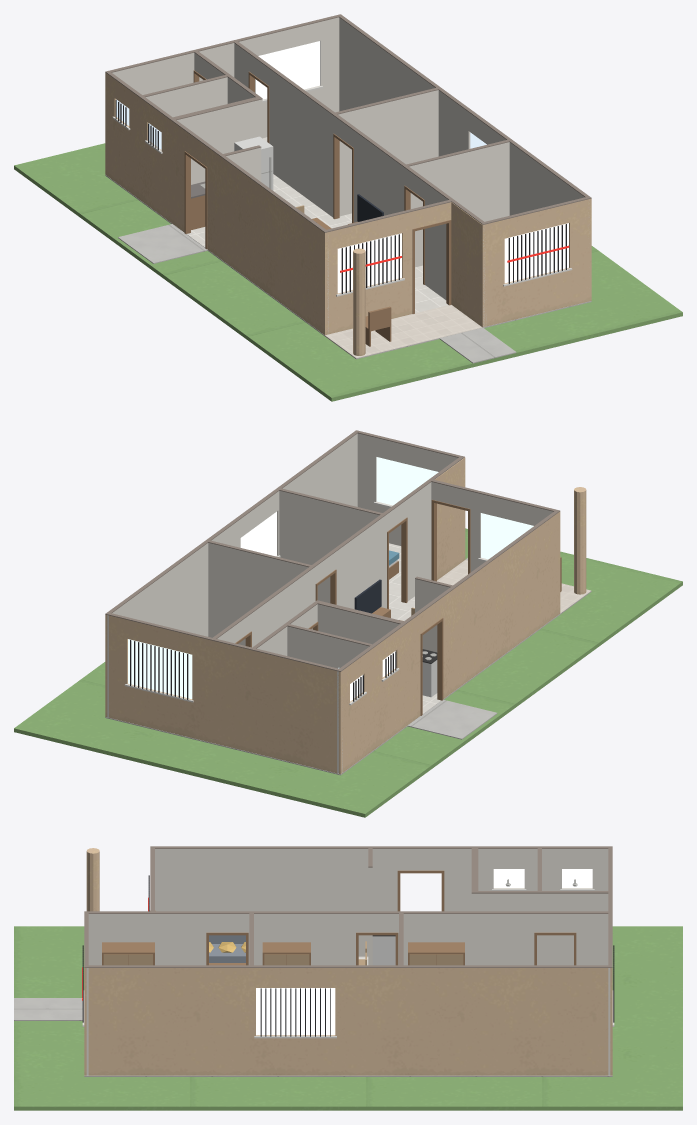
The model's file is casa_creador_espejo_interior.glb.
3 renders of one model, top to bottom at view 1: azimuth 30°, elevation 25°; view 2: azimuth 150°, elevation 25°; view 3: azimuth 270°, elevation 25°, orthographic. The views are drawn at different scales.
Parts seen in each view (by area): view 1: FG_CasaCreador_Interior; view 2: FG_CasaCreador_Interior; view 3: FG_CasaCreador_Interior.
Part boxes in pixels (<box>): FG_CasaCreador_Interior: <box>14,14,682,401</box>; FG_CasaCreador_Interior: <box>14,430,682,817</box>; FG_CasaCreador_Interior: <box>14,846,682,1110</box>.
Size of the model in its own units: 9.7 by 3.02 by 15.2.
28 materials, 7 textured.
